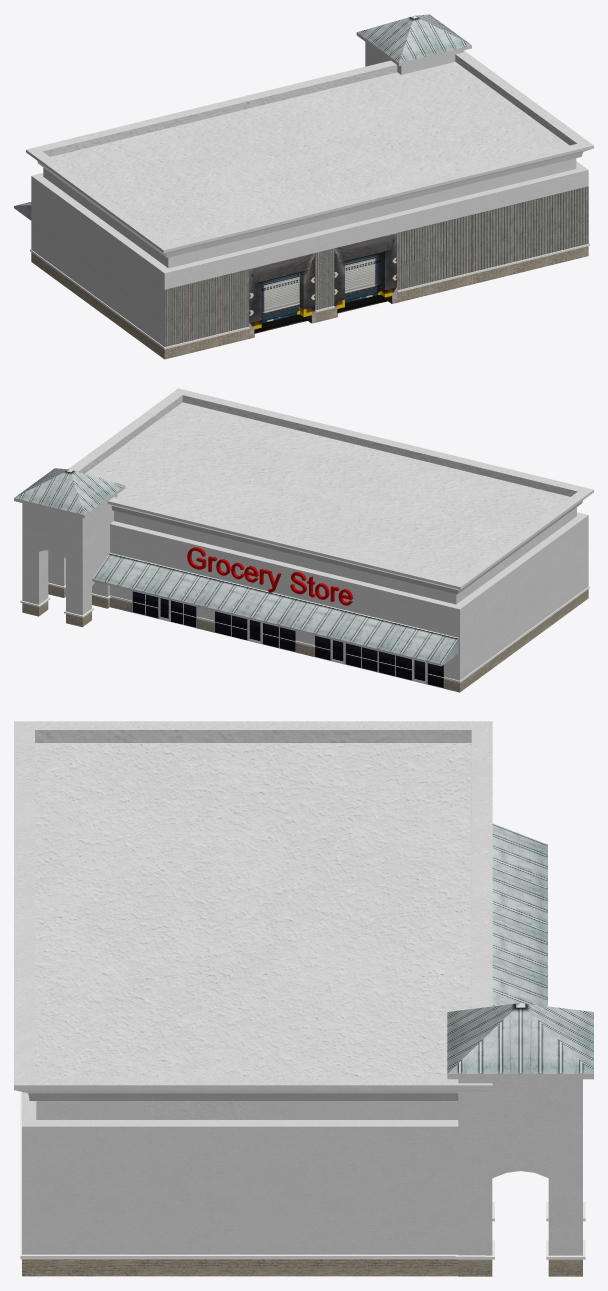
File: grocery_store.dae
The picture shows the model from 3 angles, top to bottom: view 1: azimuth 30°, elevation 25°; view 2: azimuth 150°, elevation 25°; view 3: azimuth 270°, elevation 25°; orthographic projection. The views are drawn at different scales.
Visible parts, largest first — view 1: GroceryStore; view 2: GroceryStore; view 3: GroceryStore.
Part boxes in pixels (x1=…): GroceryStore: x1=14, y1=14, x2=593, y2=359; GroceryStore: x1=14, y1=388, x2=593, y2=692; GroceryStore: x1=14, y1=721, x2=593, y2=1276.
Size of the model in its own units: 1296 by 866 by 407.
Materials: 1 (1 with a texture image).
